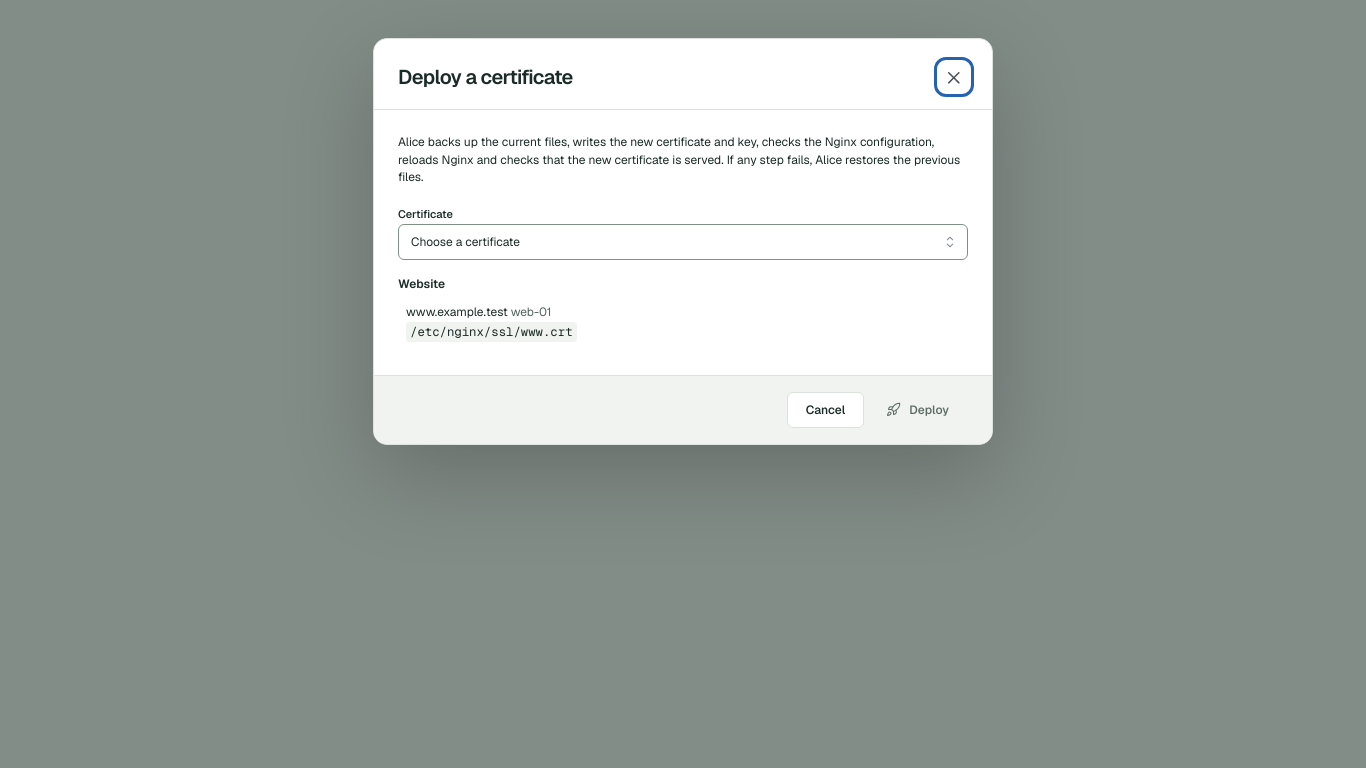
Scenario: DeployDialog from a website › shows the san_mismatch warning of the answer without blocking
Select "new.example.test (ECDSA, valid until Sep 1, 2027)" in the dropdown labelled "Certificate" at (683, 242), box [398,224,968,260]
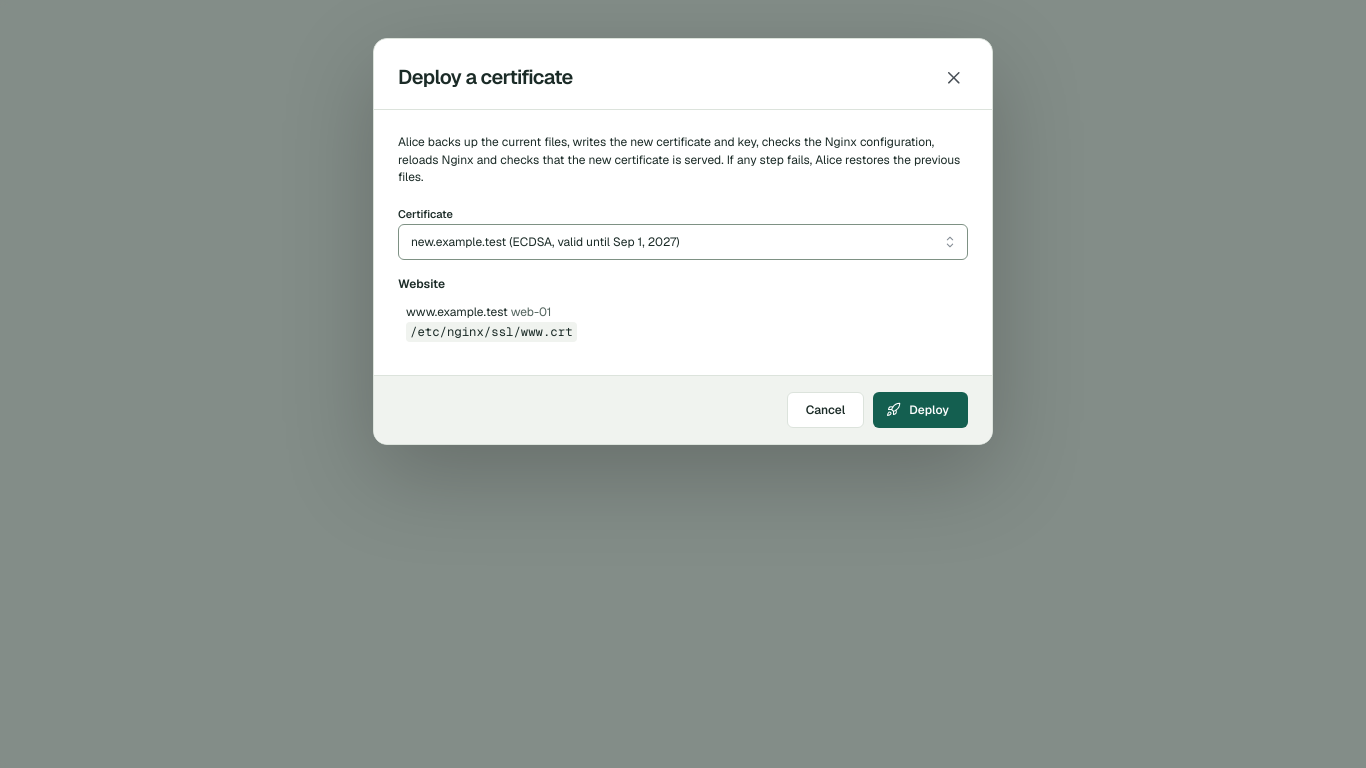
Click the button "Deploy" at (921, 410), box [873,392,968,428]
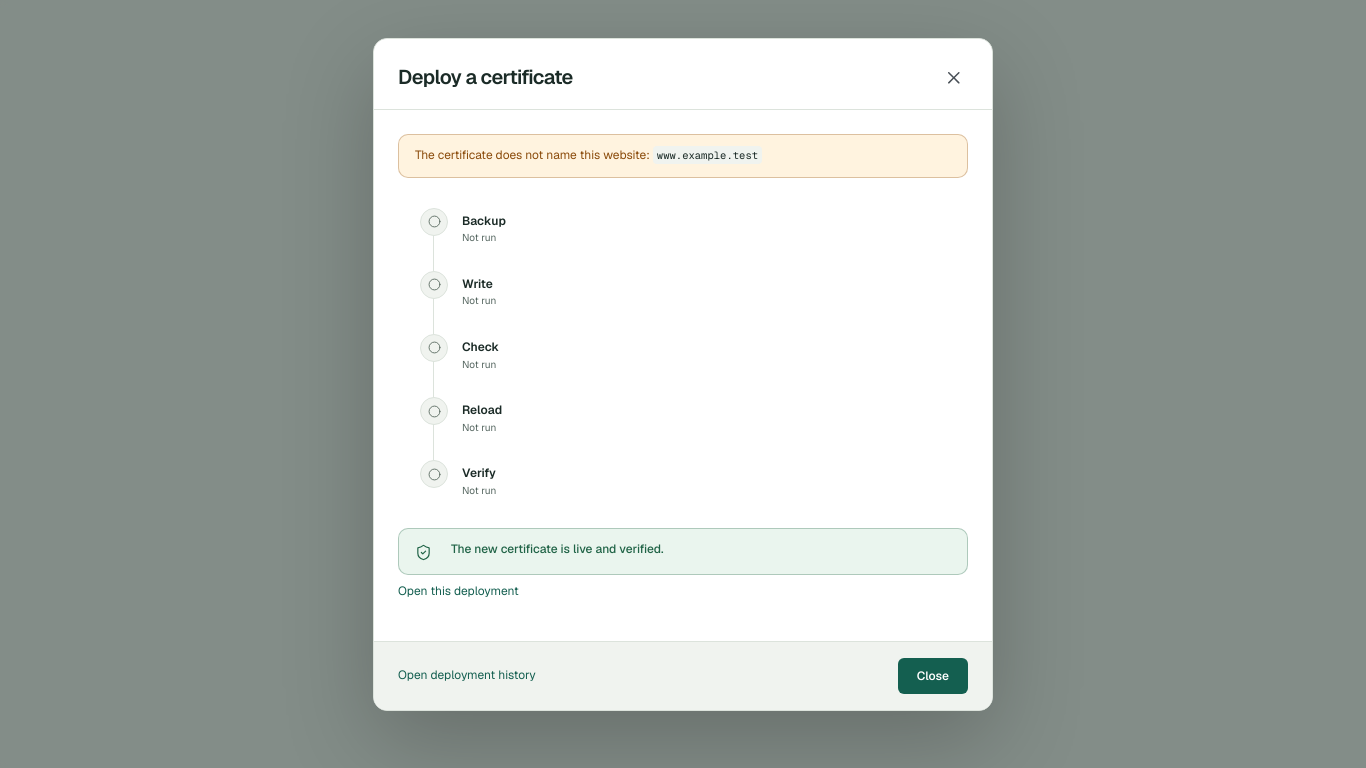
Now the text "The certificate does not name this website: www.example.test" is shown, box [415,146,762,164]
